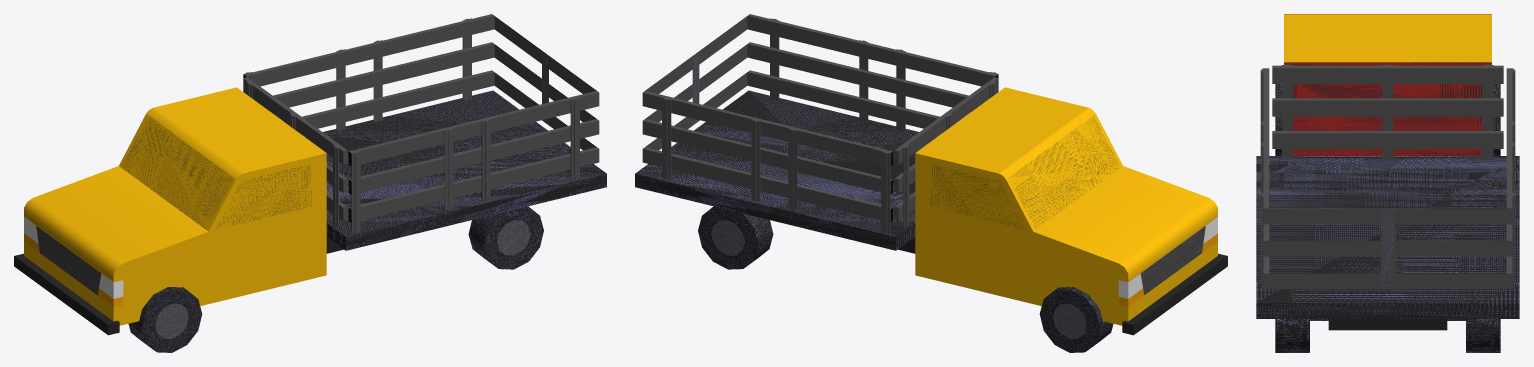
The picture shows the model from 3 angles, left to right: view 1: azimuth 30°, elevation 25°; view 2: azimuth 150°, elevation 25°; view 3: azimuth 270°, elevation 25°; orthographic projection. The views are drawn at different scales.
Visible parts, largest first — view 1: SketchUp (×10), Component_4 (×6), Component_1 (×4), Component_6 (×5), Component_5; view 2: SketchUp (×10), Component_4 (×6), Component_1 (×4), Component_6 (×5), Component_5; view 3: SketchUp (×11), Component_5 (×3), Component_4 (×6), Component_1 (×4), Component_6 (×5).
Boxes of the visible parts, box(x1,y1,x2,y2) form: SketchUp (×10): box(14, 16, 606, 335); Component_4 (×6): box(244, 14, 599, 220); Component_1 (×4): box(128, 206, 543, 352); Component_6 (×5): box(333, 97, 579, 233); Component_5: box(243, 77, 347, 164); SketchUp (×10): box(635, 16, 1227, 335); Component_4 (×6): box(642, 14, 997, 220); Component_1 (×4): box(698, 206, 1113, 352); Component_6 (×5): box(662, 97, 909, 233); Component_5: box(894, 77, 998, 164); SketchUp (×11): box(1256, 14, 1519, 330); Component_5 (×3): box(1272, 65, 1503, 148); Component_4 (×6): box(1263, 68, 1512, 289); Component_1 (×4): box(1275, 84, 1500, 352); Component_6 (×5): box(1260, 64, 1515, 289).
Bounding box in the file's own units: 226 × 91 × 71.12.
